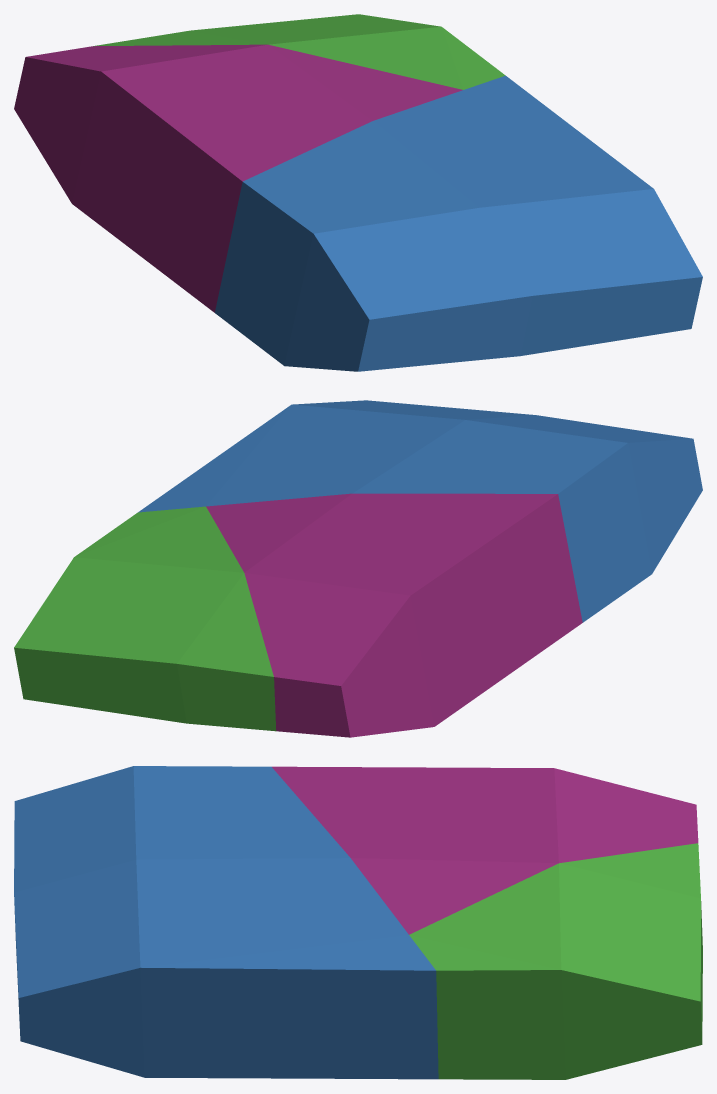
File: SM_Prop_Snack_08.fbx
The picture shows the model from 3 angles, top to bottom: view 1: azimuth 30°, elevation 25°; view 2: azimuth 150°, elevation 25°; view 3: azimuth 270°, elevation 25°; orthographic projection. The views are drawn at different scales.
Parts seen in each view (by area): view 1: SM_Prop_Snack_08; view 2: SM_Prop_Snack_08; view 3: SM_Prop_Snack_08.
Part boxes in pixels (x1=…): SM_Prop_Snack_08: x1=14, y1=14, x2=702, y2=371; SM_Prop_Snack_08: x1=14, y1=400, x2=702, y2=737; SM_Prop_Snack_08: x1=14, y1=766, x2=702, y2=1079.
Bounding box in the file's own units: 10.89 × 4.68 × 17.88.
